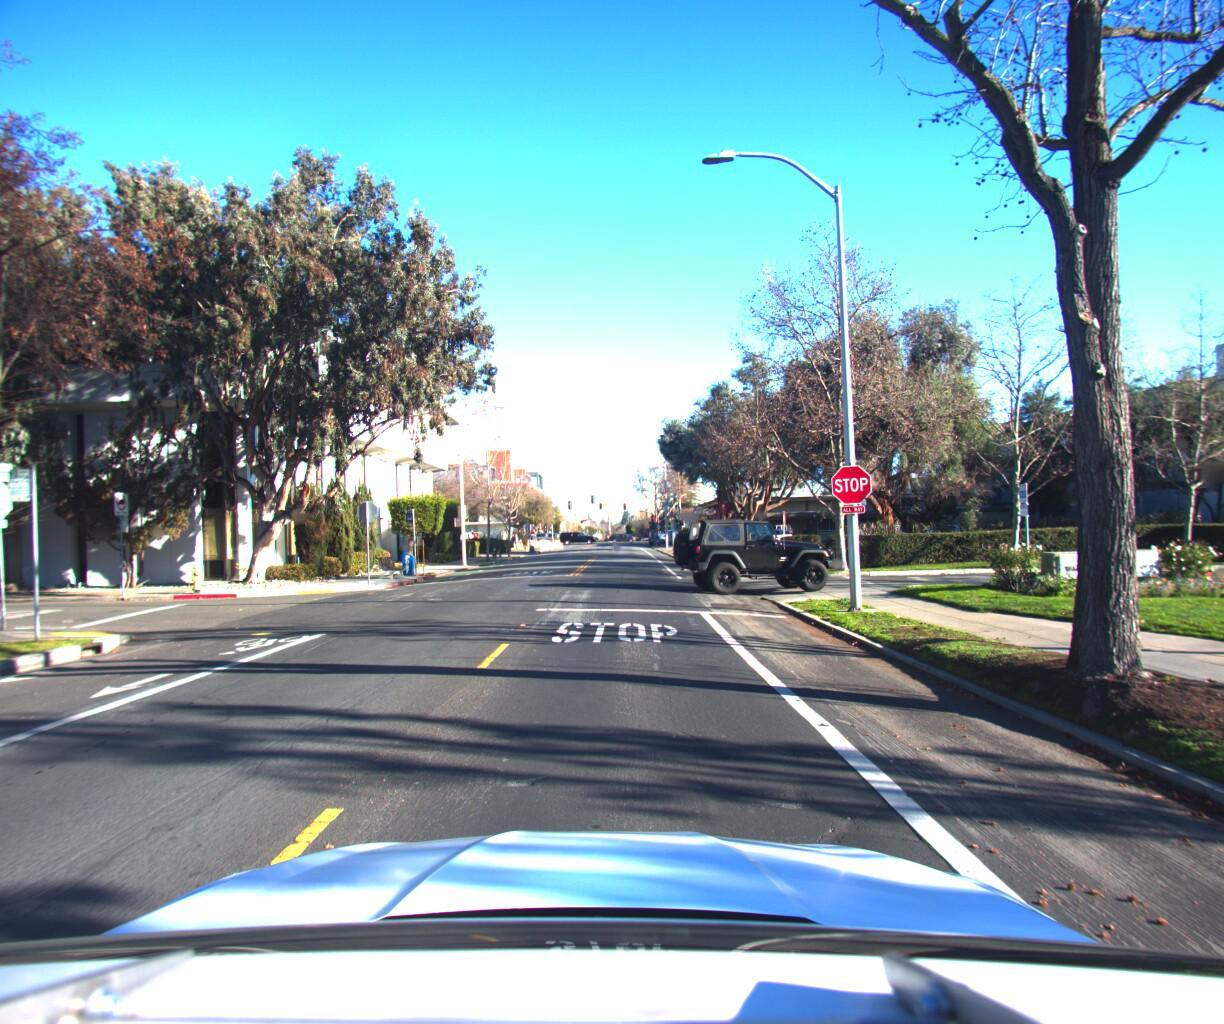car: (666, 513, 837, 594)
